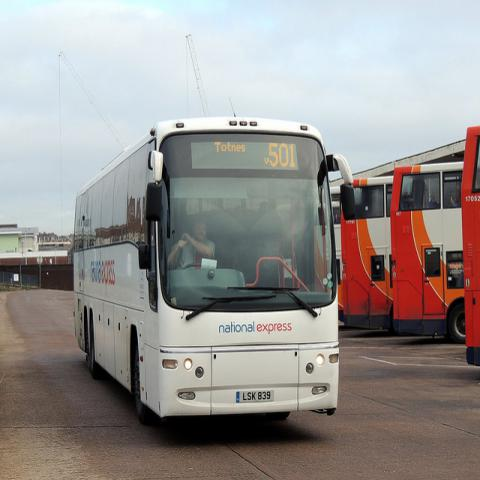bus: (73, 114, 357, 430), (388, 161, 466, 347), (333, 175, 396, 332), (458, 126, 480, 369)
